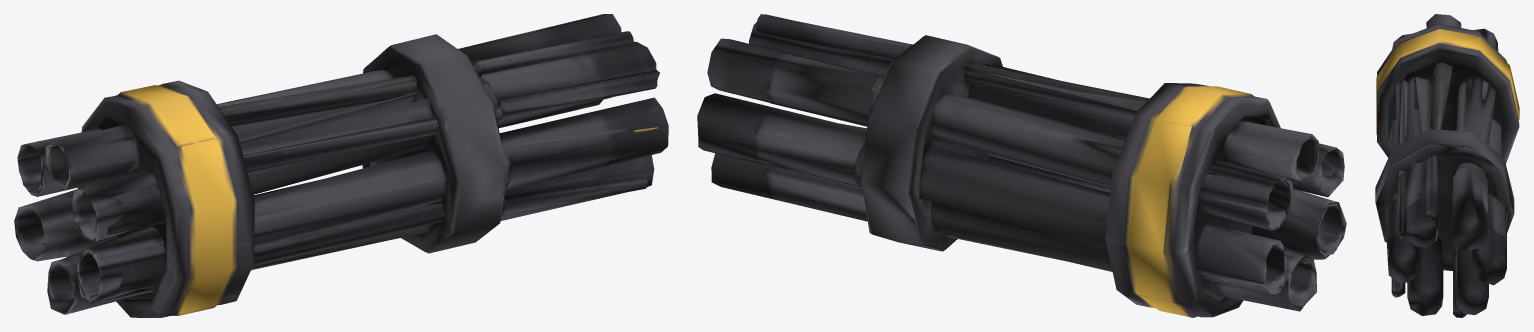
The model's file is gun.glb.
3 views of the same model, side by side, from view 1: azimuth 30°, elevation 25°; view 2: azimuth 150°, elevation 25°; view 3: azimuth 270°, elevation 25° (orthographic). The views are drawn at different scales.
Visible parts, largest first — view 1: Gun_Pivot_Centered; view 2: Gun_Pivot_Centered; view 3: Gun_Pivot_Centered.
Boxes of the visible parts, x1=… form: Gun_Pivot_Centered: x1=14, y1=14, x2=668, y2=317; Gun_Pivot_Centered: x1=697, y1=14, x2=1346, y2=317; Gun_Pivot_Centered: x1=1375, y1=14, x2=1519, y2=317.
Size of the model in its own units: 0.4575 by 0.1631 by 0.1479.
1 material, 1 textured.
